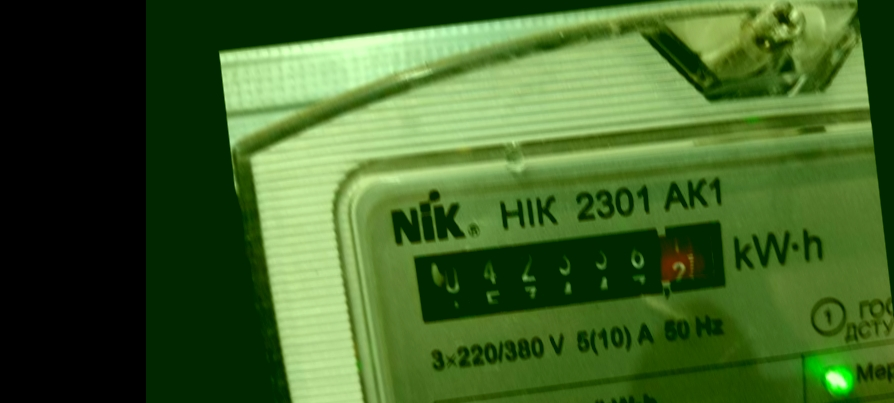0: (438, 260, 460, 295)
1: (666, 229, 680, 256)
2: (513, 247, 538, 284), (666, 259, 685, 282)
3: (549, 243, 571, 276), (588, 238, 609, 272)
4: (477, 252, 498, 286)
6: (623, 236, 647, 272)
screen: (397, 206, 741, 335)
